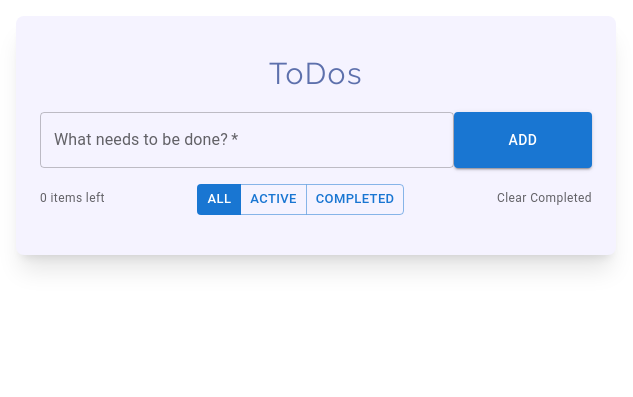
Test: App component › clear completed items
Type "New item 1" into the field at (247, 140), box [40,112,454,168]
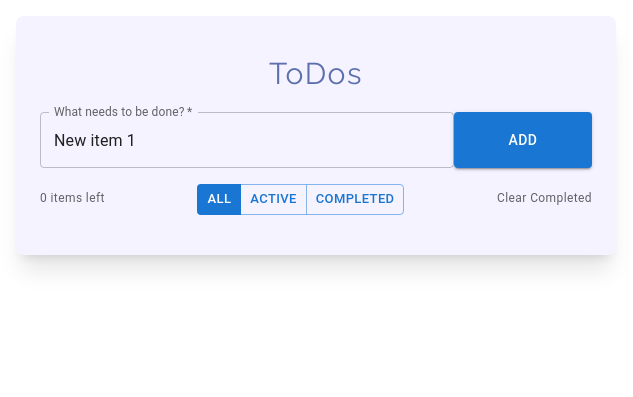
Click the button "Add" at (523, 140), box [454,112,592,168]
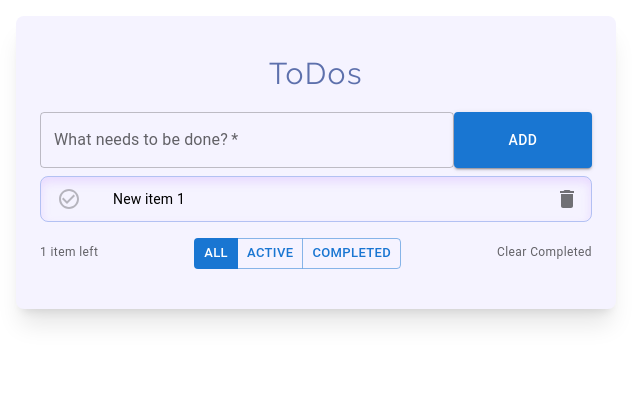
Type "New item 2" into the field at (247, 140), box [40,112,454,168]
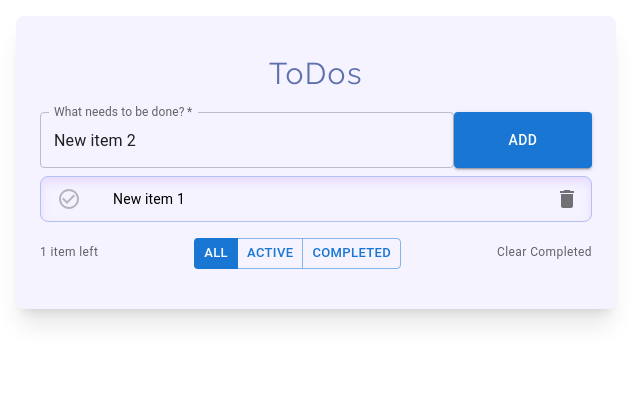
Click the button "Add" at (523, 140), box [454,112,592,168]
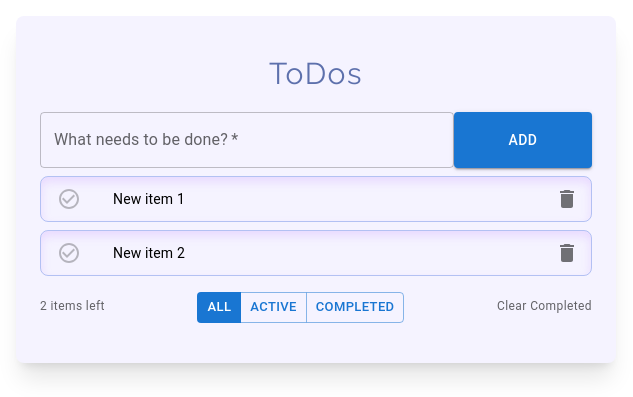
expect the text "New item 1" is shown: met, box [113,191,185,207]
expect the text "New item 2" is shown: met, box [113,245,185,261]
Click the 1st icon with test id "CheckCircleOutlineIcon" at (69, 199), box [57,187,81,211]
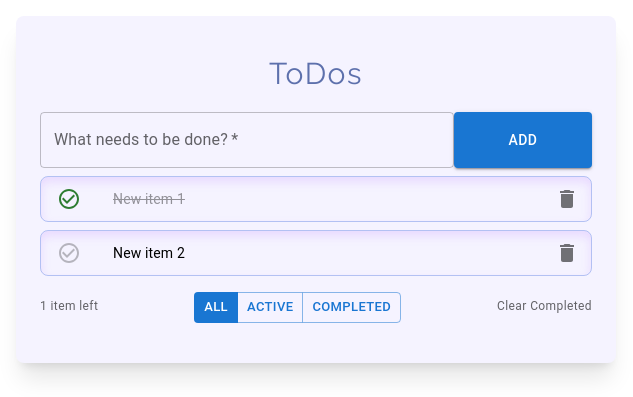
Click the text "Clear Completed" at (545, 307), box [497,298,592,317]
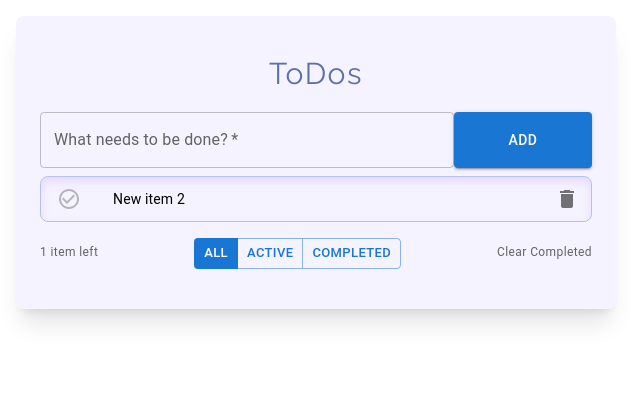
expect the list item reads "New item 2": met, box [113,191,185,207]
expect the text "New item 1" is gone: met
